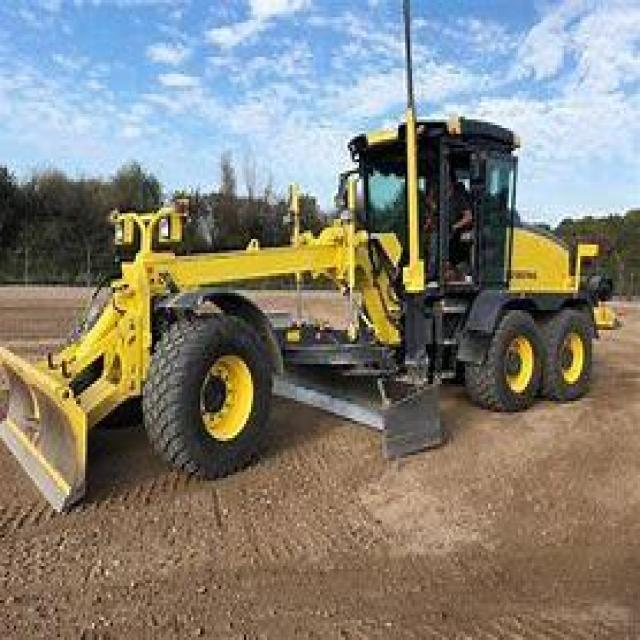Grader: (44, 105, 617, 472)
